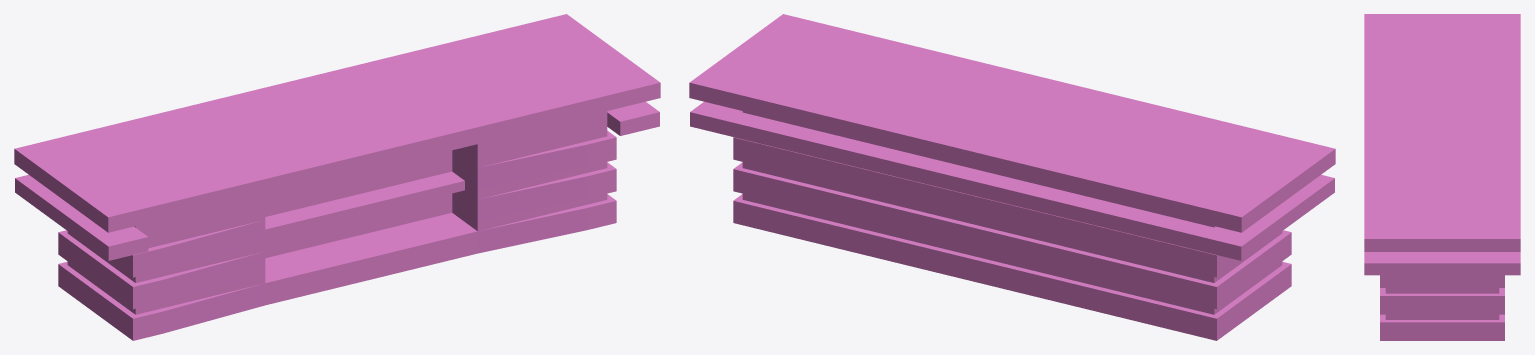
The model's file is bar_untextured.fbx.
3 views of the same model, side by side, from view 1: azimuth 30°, elevation 25°; view 2: azimuth 150°, elevation 25°; view 3: azimuth 270°, elevation 25° (orthographic). The views are drawn at different scales.
Visible parts, largest first — view 1: Cube; view 2: Cube; view 3: Cube.
Part boxes in pixels (x1,y1,x2,y2): Cube: (14,14,660,340); Cube: (689,14,1335,340); Cube: (1364,14,1520,340).
Bounding box in the file's own units: 100 × 24.08 × 29.47.
